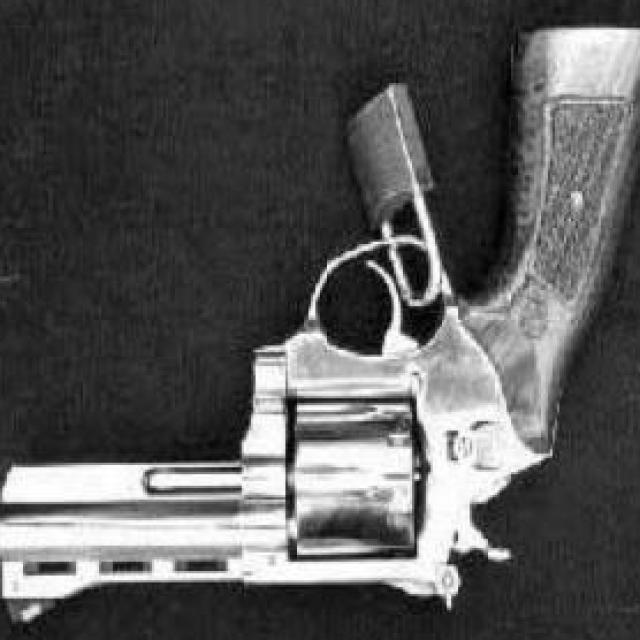pistol: (0, 23, 640, 626)
